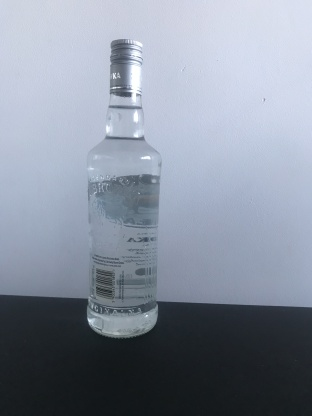nakretka: (108, 36, 144, 98)
